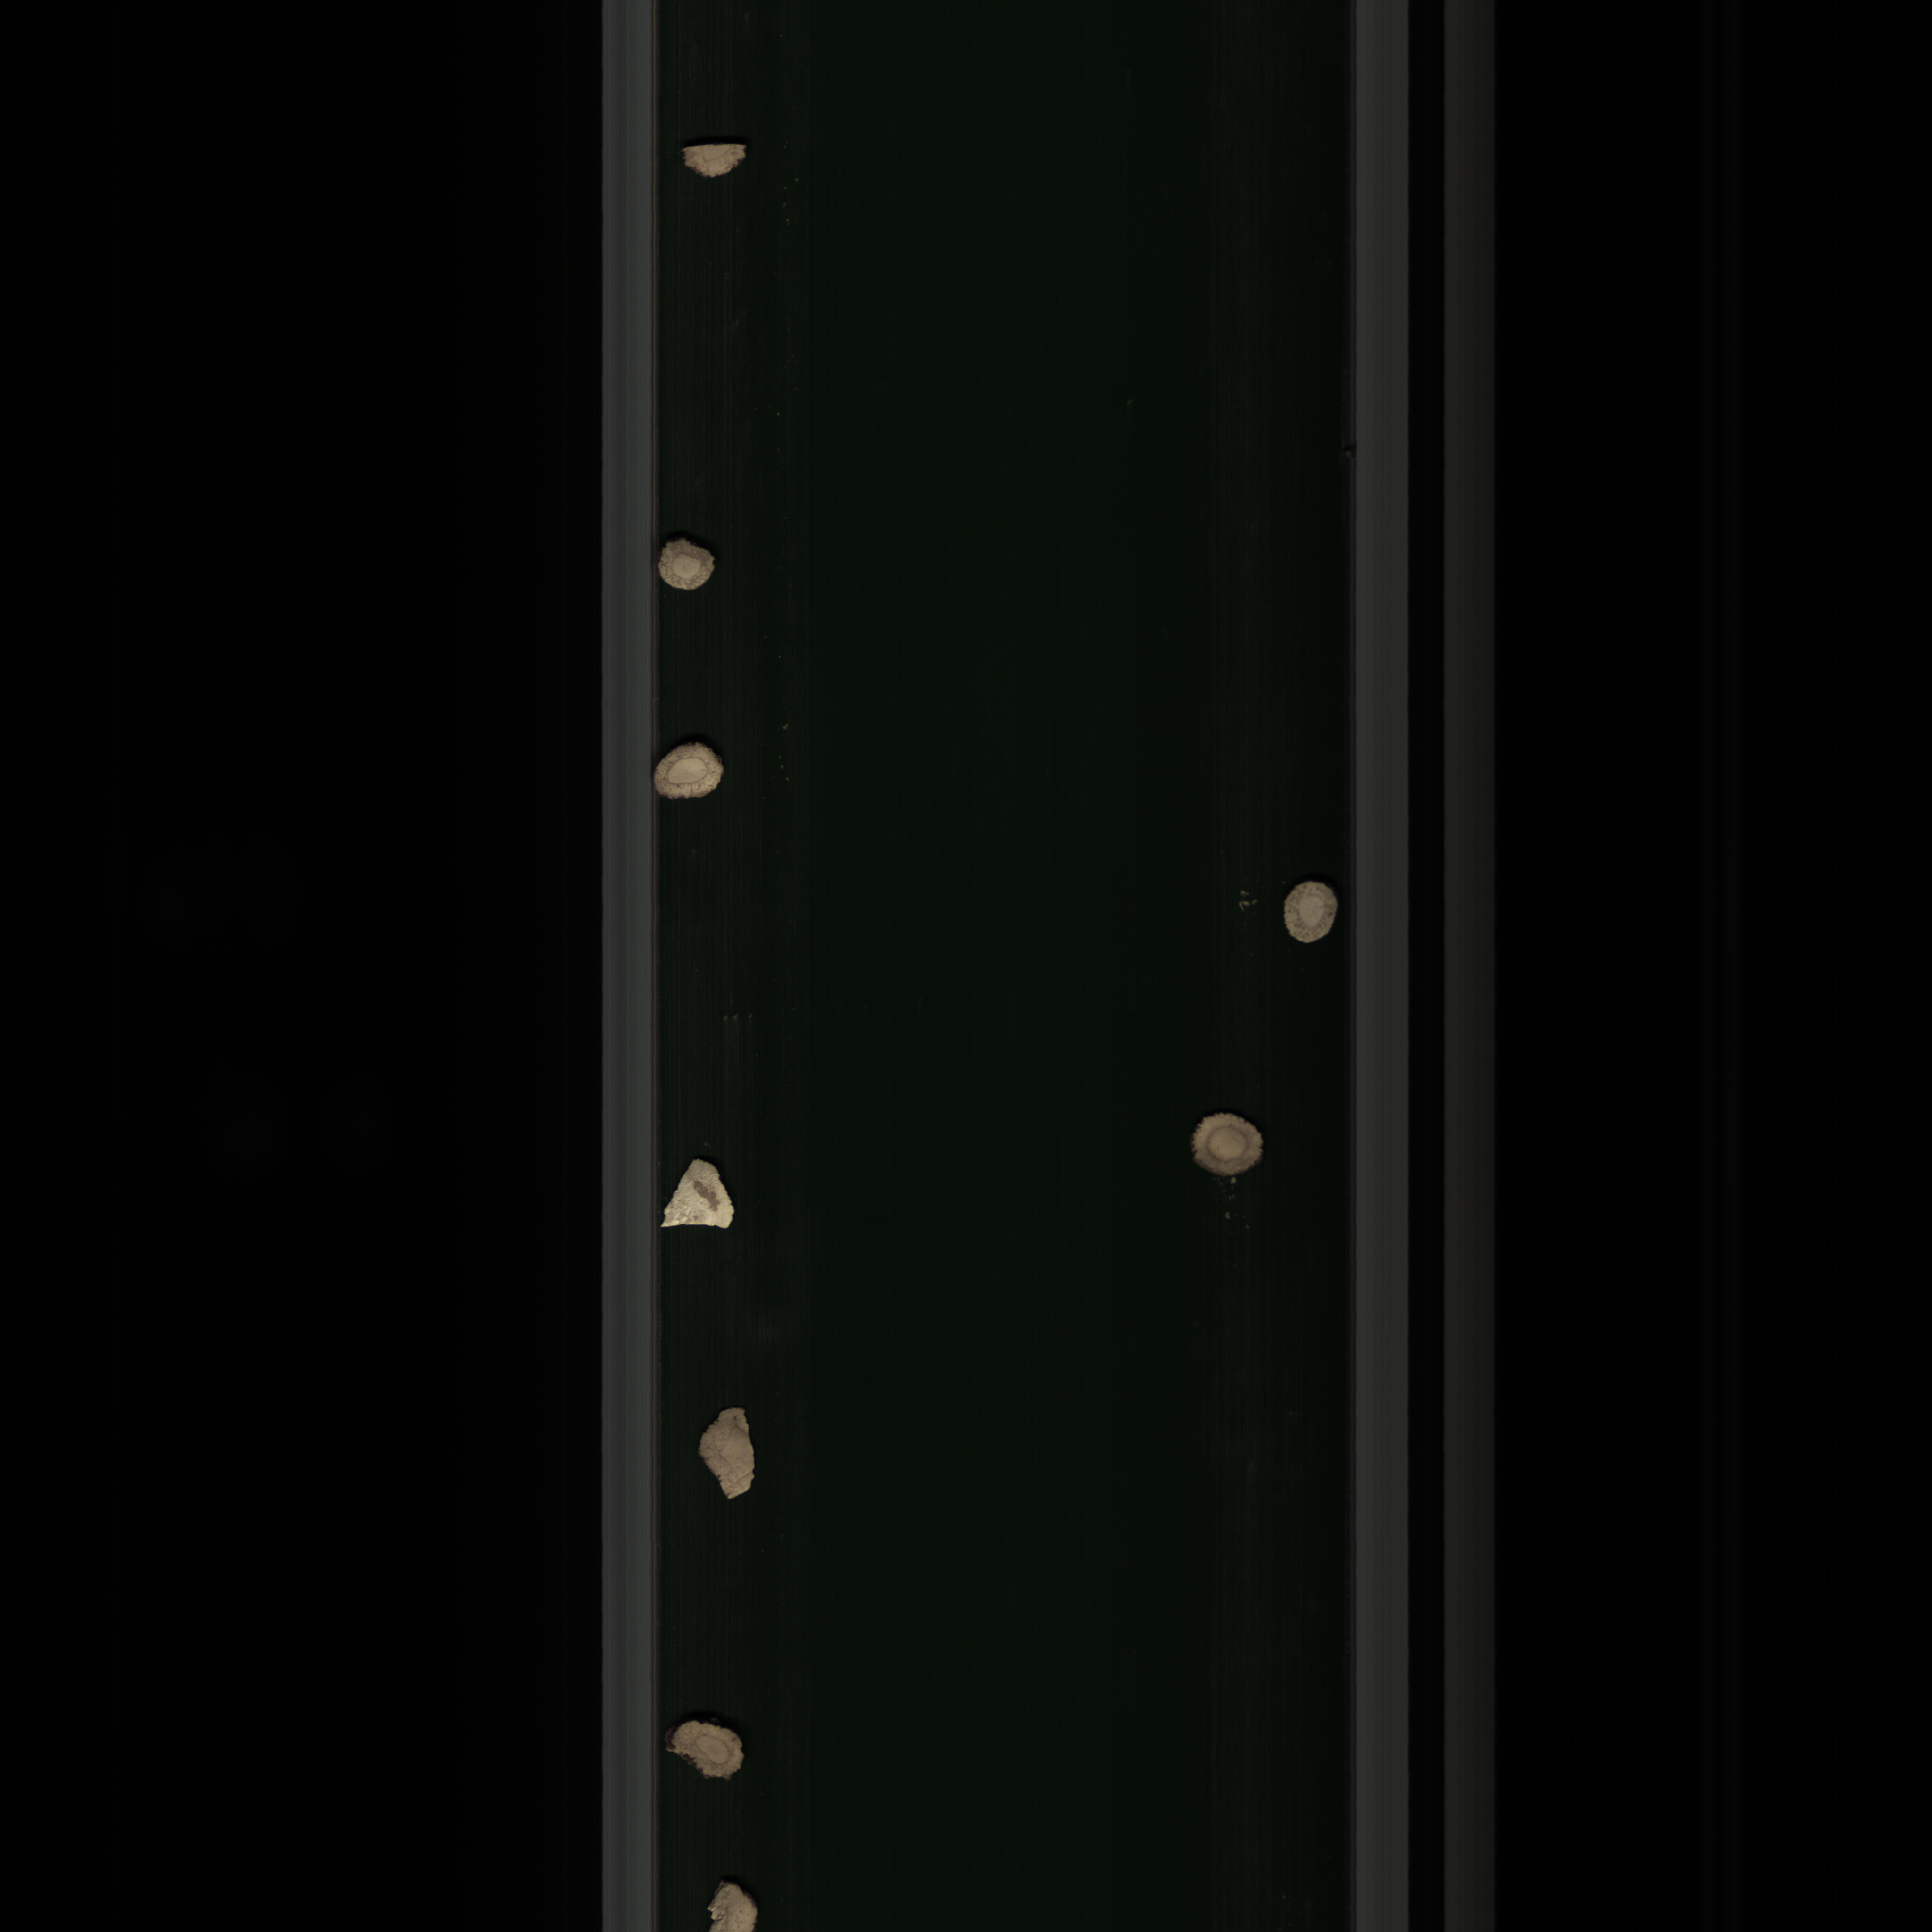debris: (662, 1146, 761, 1237), (697, 1407, 770, 1516), (690, 1877, 775, 1932), (665, 136, 754, 188)
moldy: (656, 1713, 757, 1794), (1187, 1108, 1279, 1192)
